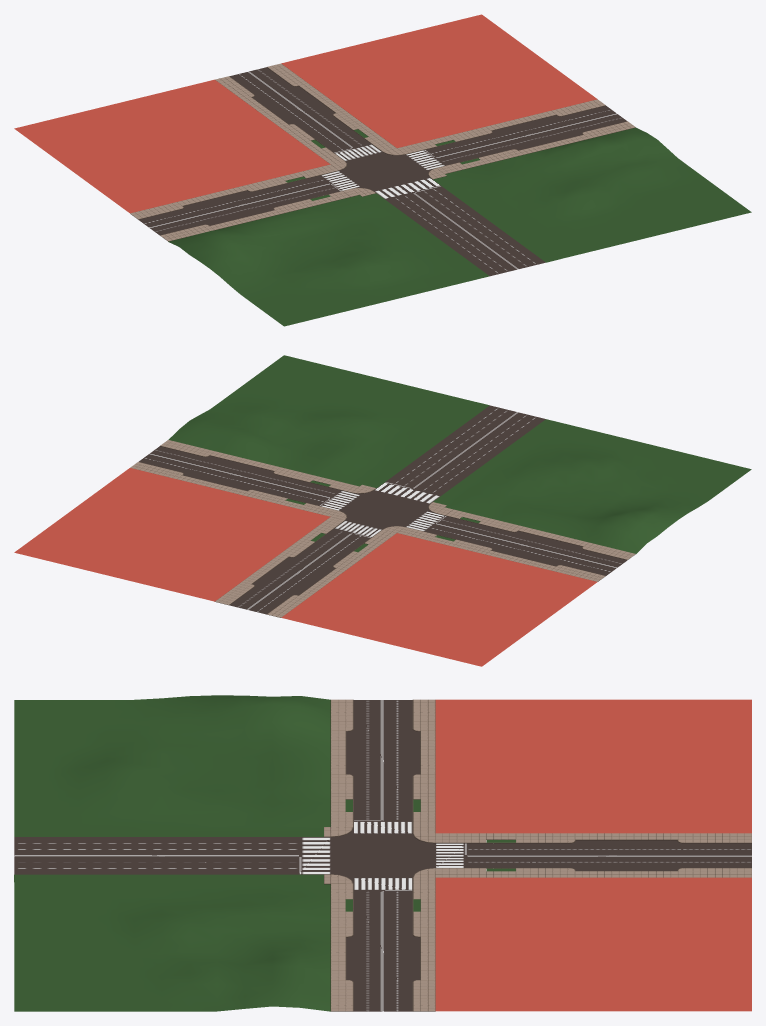
The model's file is TileCityHighway1.fbx.
3 renders of one model, top to bottom at view 1: azimuth 30°, elevation 25°; view 2: azimuth 150°, elevation 25°; view 3: azimuth 270°, elevation 25°, orthographic. The views are drawn at different scales.
Parts seen in each view (by area): view 1: Plane.141, Sidewalk1.132, Road1.002, Road, Road1.020, Road1.014, Sidewalk1.103, Sidewalk1.102, Sidewalk1.208, Road1.024; view 2: Plane.141, Sidewalk1.132, Road1.002, Road, Road1.020, Road1.014, Sidewalk1.102, Sidewalk1.103, Sidewalk1.208, Road1.024; view 3: Plane.141, Sidewalk1.132, Road1.002, Road, Road1.020, Road1.014, Sidewalk1.208, Sidewalk1.102, Sidewalk1.103, Road1.024, Sidewalk1.244, Sidewalk1.104 (+19 smaller).
Part boxes in pixels (x1,y1,x2,y2): Plane.141: (168, 127, 751, 326); Sidewalk1.132: (14, 14, 597, 213); Road1.002: (138, 105, 626, 235); Road: (386, 186, 545, 276); Road1.020: (230, 67, 370, 152); Road1.014: (339, 152, 429, 191); Sidewalk1.103: (415, 132, 499, 171); Sidewalk1.102: (266, 169, 350, 208); Sidewalk1.208: (293, 121, 385, 156); Road1.024: (374, 178, 441, 199); Plane.141: (168, 355, 751, 553); Sidewalk1.132: (14, 468, 597, 666); Road1.002: (139, 446, 627, 575); Road: (386, 405, 545, 495); Road1.020: (229, 529, 370, 614); Road1.014: (339, 490, 429, 529); Sidewalk1.102: (415, 509, 499, 548); Sidewalk1.103: (266, 473, 349, 512); Sidewalk1.208: (293, 524, 385, 560); Road1.024: (374, 482, 441, 503); Plane.141: (14, 695, 330, 1011); Sidewalk1.132: (435, 699, 751, 1011); Road1.002: (353, 700, 412, 1011); Road: (14, 837, 298, 874); Road1.020: (467, 843, 751, 868); Road1.014: (330, 833, 435, 877); Sidewalk1.208: (464, 833, 537, 877); Sidewalk1.102: (330, 790, 435, 821); Sidewalk1.103: (330, 889, 435, 920); Road1.024: (299, 837, 330, 874); Sidewalk1.244: (604, 833, 648, 877); Sidewalk1.104: (330, 743, 435, 762).
Bounding box in the file's own units: 20013 × 543 × 20010.
